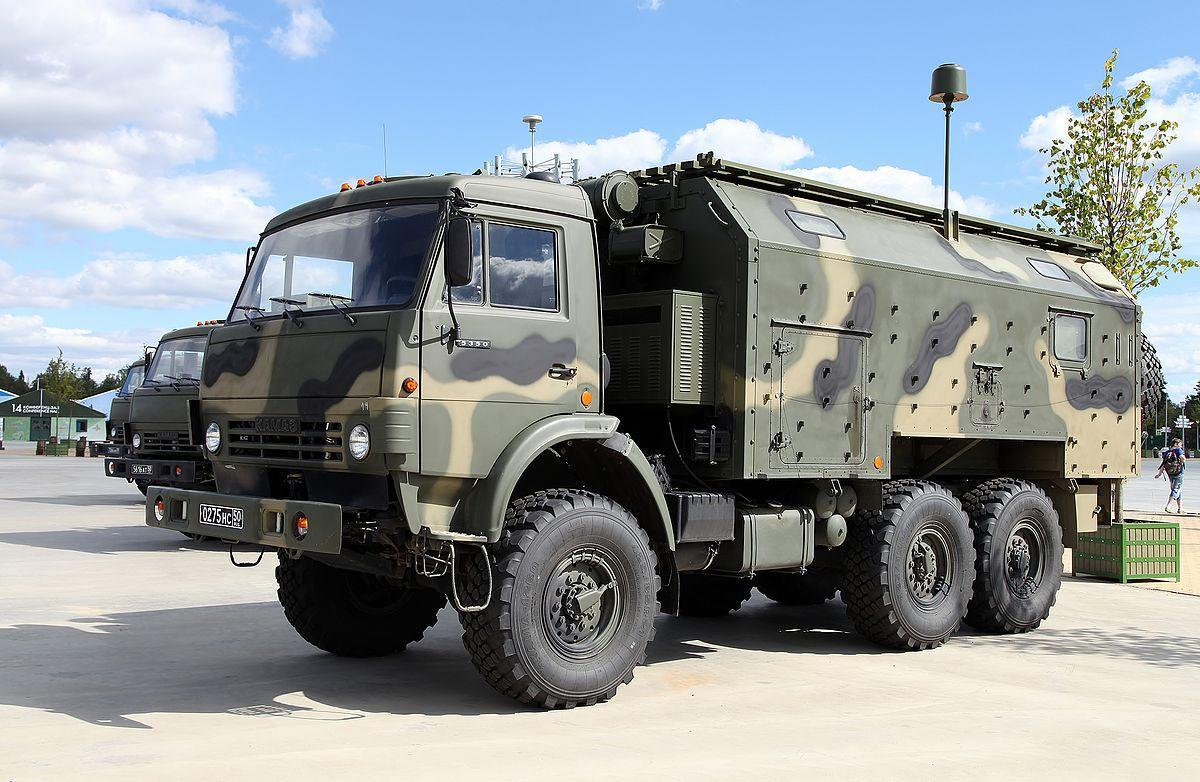truck: (206, 144, 1144, 711)
